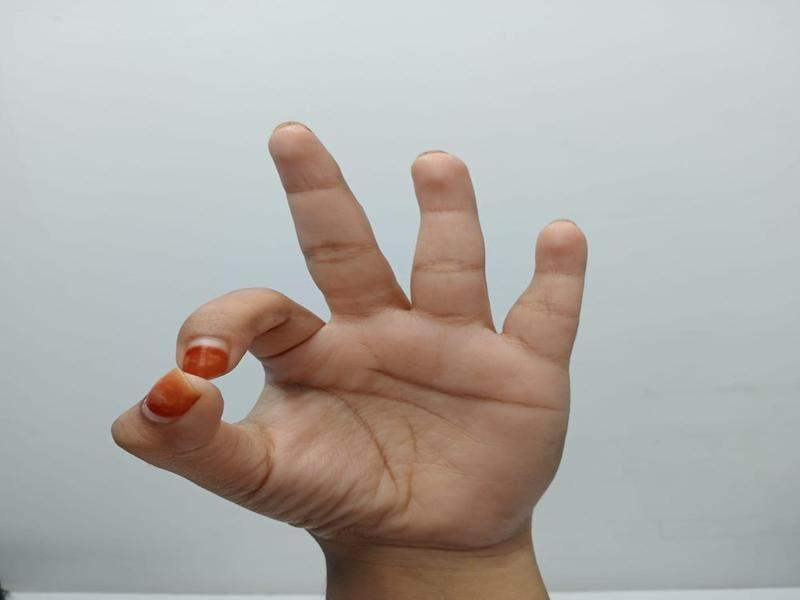UP: (99, 102, 604, 600)
